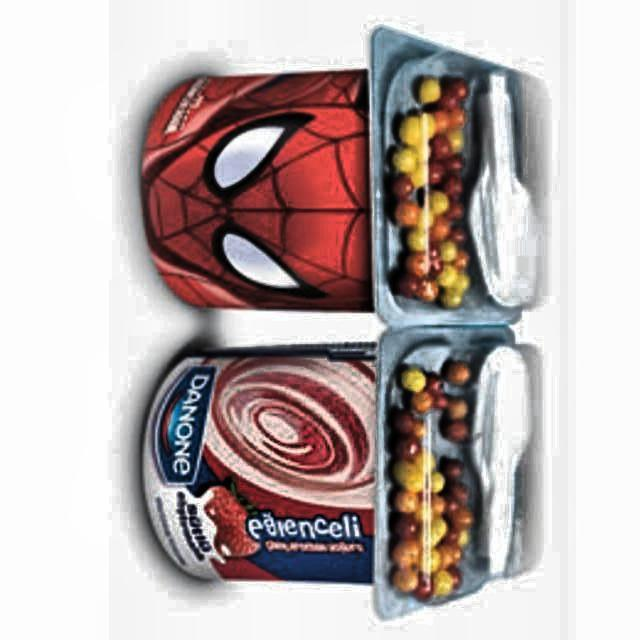plastic: (142, 28, 541, 326), (143, 327, 539, 616)
